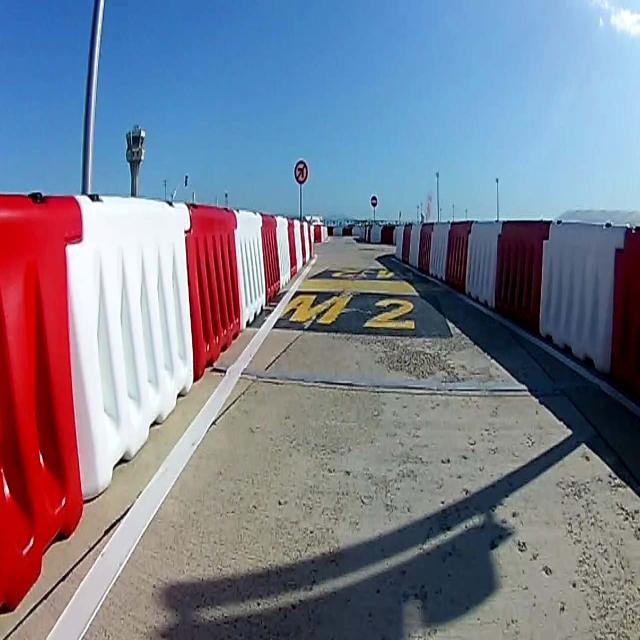girisyok: (371, 195, 377, 209)
soladonulmez: (294, 160, 308, 184)
